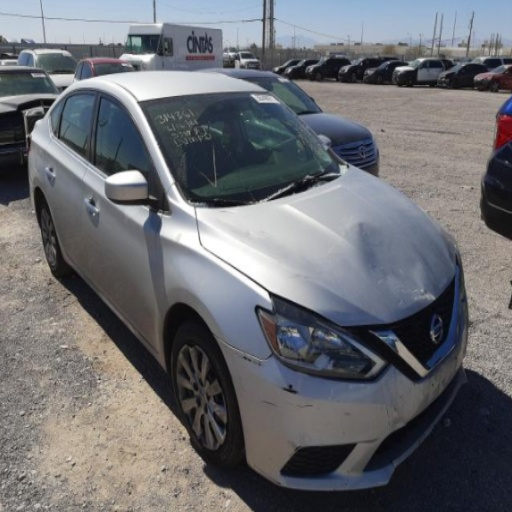dent: (327, 212, 442, 309), (235, 225, 265, 241)
scratch: (383, 369, 451, 432), (256, 465, 285, 486), (254, 394, 284, 414), (288, 397, 320, 415), (234, 351, 267, 368), (274, 381, 300, 400), (284, 436, 299, 457), (355, 436, 380, 447), (332, 409, 357, 416)
